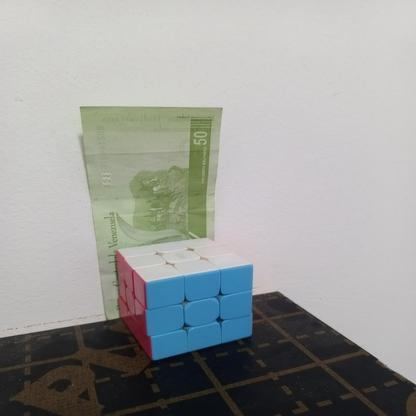fifty-back-vef: (79, 105, 223, 322)
